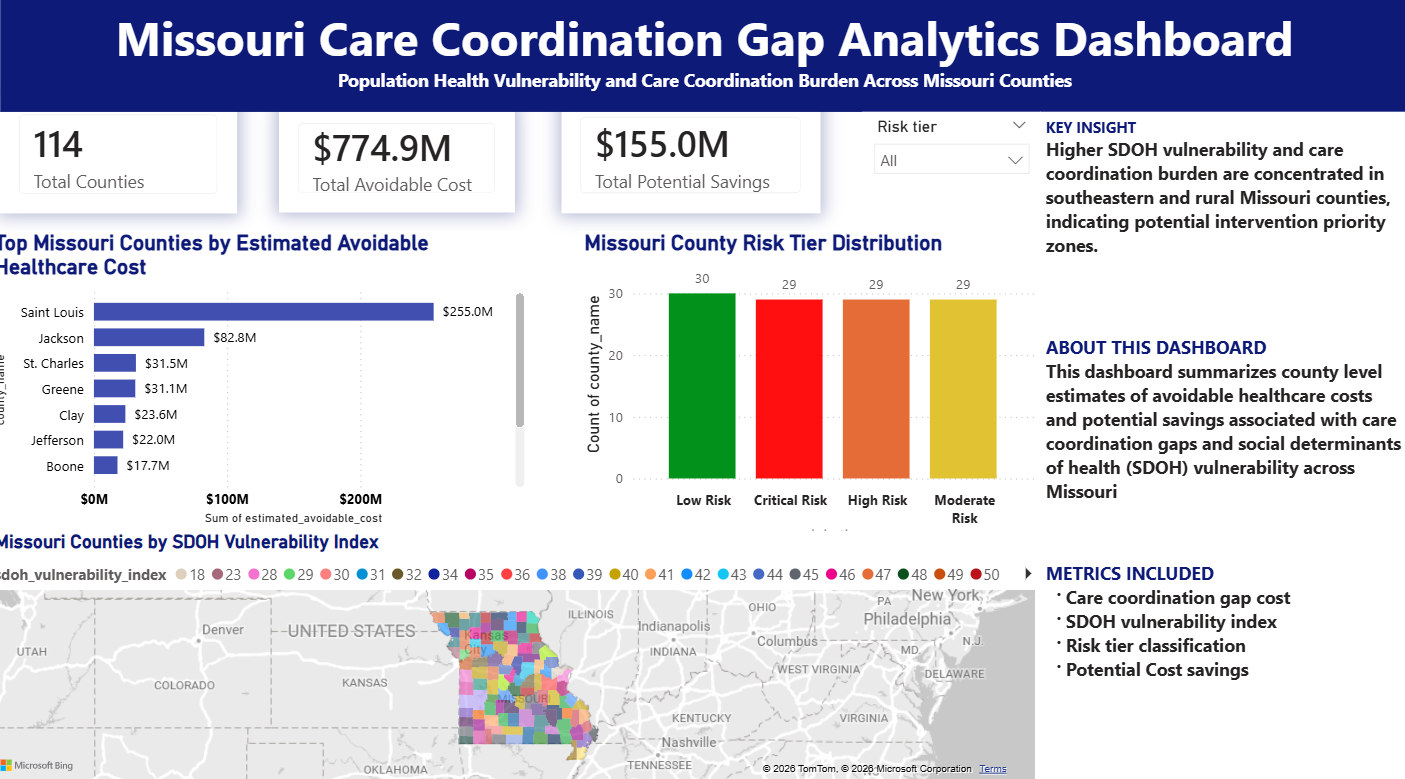

The page's visual inventory and layout, read from the dashboard file:
{"tool":"powerbi","page":{"name":"Page 1","canvas":[1280,720],"ordinal":0},"visuals":[{"type":"cardVisual","fields":{"Data":["County_Data.Total Counties"]},"box":[9.8,96.6,214,106.4],"z":0},{"type":"cardVisual","fields":{"Data":["County_Data.Total Potential Savings"]},"box":[516,99,233.6,103.9],"z":1000},{"type":"cardVisual","fields":{"Data":["County_Data.Total Avoidable Cost"]},"box":[261.7,105.2,212.8,97.8],"z":2000},{"type":"textbox","box":[9.8,9.8,1270.5,101.5],"z":3000},{"type":"barChart","title":"Top Missouri Counties by Estimated Avoidable Healthcare Cost","fields":{"Category":["County_Data.county_name"],"Y":["Sum(County_Data.estimated_avoidable_cost)"]},"box":[0,218.9,487.9,270.2],"z":4000},{"type":"clusteredColumnChart","title":"Missouri County Risk Tier Distribution","fields":{"Y":["CountNonNull(County_Data.county_name)"],"Category":["County_Data.risk_tier"]},"box":[531.9,218.9,415.8,288.6],"z":5000},{"type":"slicer","fields":{"Values":["County_Data.risk_tier"]},"box":[787.5,111.3,160.2,91.7],"z":6000},{"type":"filledMap","title":"Missouri Counties by SDOH Vulnerability Index","fields":{"Category":["County_Data.County_State"],"Series":["County_Data.sdoh_vulnerability_index"]},"box":[0,489.1,947.7,231.1],"z":7000},{"type":"textbox","box":[947.7,111.3,332.6,609],"z":8000}]}

Visuals, with their boxes in screenshot pixels (x1, y1, x2, y2), scaled from the page's 1280x720 canvas onto the 1405x779 screenshot:
cardVisual - County_Data.Total Counties: bbox=(11, 105, 246, 220)
cardVisual - County_Data.Total Potential Savings: bbox=(566, 107, 823, 220)
cardVisual - County_Data.Total Avoidable Cost: bbox=(287, 114, 521, 220)
textbox: bbox=(11, 11, 1404, 120)
"Top Missouri Counties by Estimated Avoidable Healthcare Cost" barChart: bbox=(0, 237, 536, 529)
"Missouri County Risk Tier Distribution" clusteredColumnChart: bbox=(584, 237, 1040, 549)
slicer - County_Data.risk_tier: bbox=(864, 120, 1040, 220)
"Missouri Counties by SDOH Vulnerability Index" filledMap: bbox=(0, 529, 1040, 778)
textbox: bbox=(1040, 120, 1404, 778)
